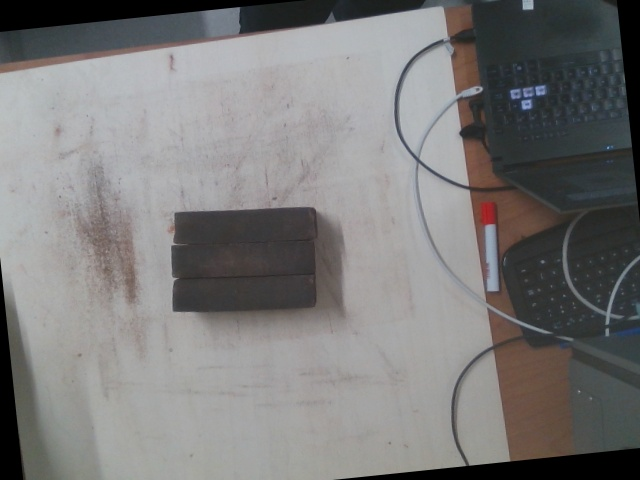brick-side: (173, 242, 313, 279), (172, 274, 312, 311), (173, 207, 313, 244)
